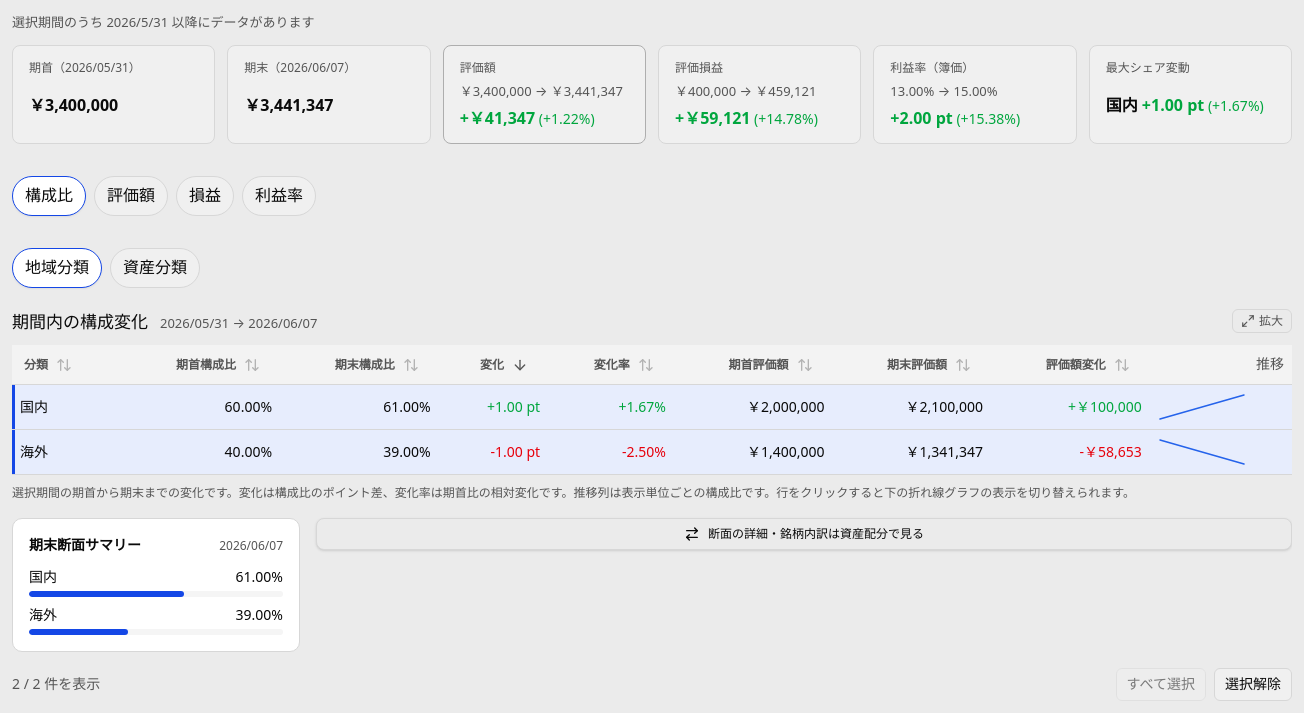
it: TrendsDetailPanel › selects all compositions by default and toggles from table row click
The width and height of the screenshot is (1304, 713).
Check: the heading "期間内の構成変化" is shown, box x1=12 y1=308 x2=148 y2=335
Check: the text "2 / 2 件を表示" is shown, box x1=12 y1=673 x2=100 y2=696
Click the button with aria-label "海外 の推移を非表示": (652, 452) x1=12 y1=430 x2=1292 y2=475
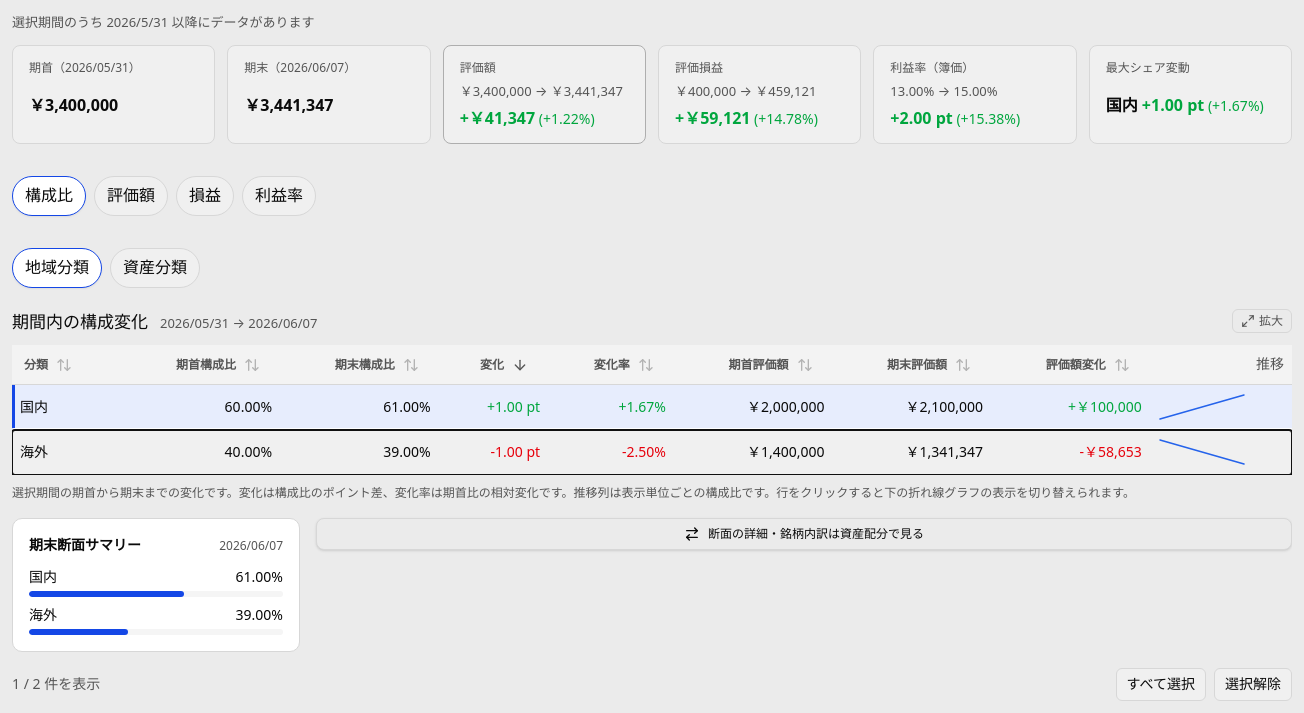
Check: the button with aria-label "海外 の推移を表示" is shown, box x1=12 y1=430 x2=1292 y2=475
Check: the text "1 / 2 件を表示" is shown, box x1=12 y1=673 x2=100 y2=696
